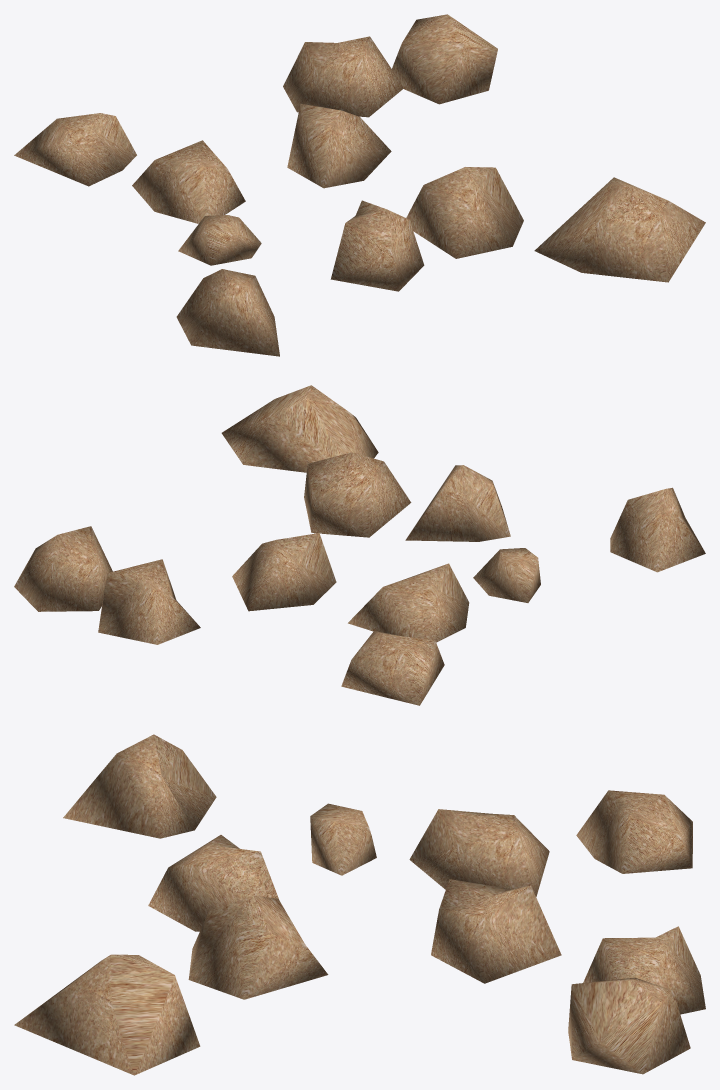
Rendered from rock_pebbleclump_a1_l1.fbx.
3 views of the same model, one above another, from view 1: azimuth 30°, elevation 25°; view 2: azimuth 150°, elevation 25°; view 3: azimuth 270°, elevation 25° (orthographic). The views are drawn at different scales.
Parts seen in each view (by area): view 1: mesh_node; view 2: mesh_node; view 3: mesh_node.
Part boxes in pixels (x1=…): mesh_node: x1=14, y1=14, x2=705, y2=356; mesh_node: x1=14, y1=385, x2=705, y2=705; mesh_node: x1=14, y1=734, x2=705, y2=1075.
Bounding box in the file's own units: 1.21 × 0.1439 × 1.22.
